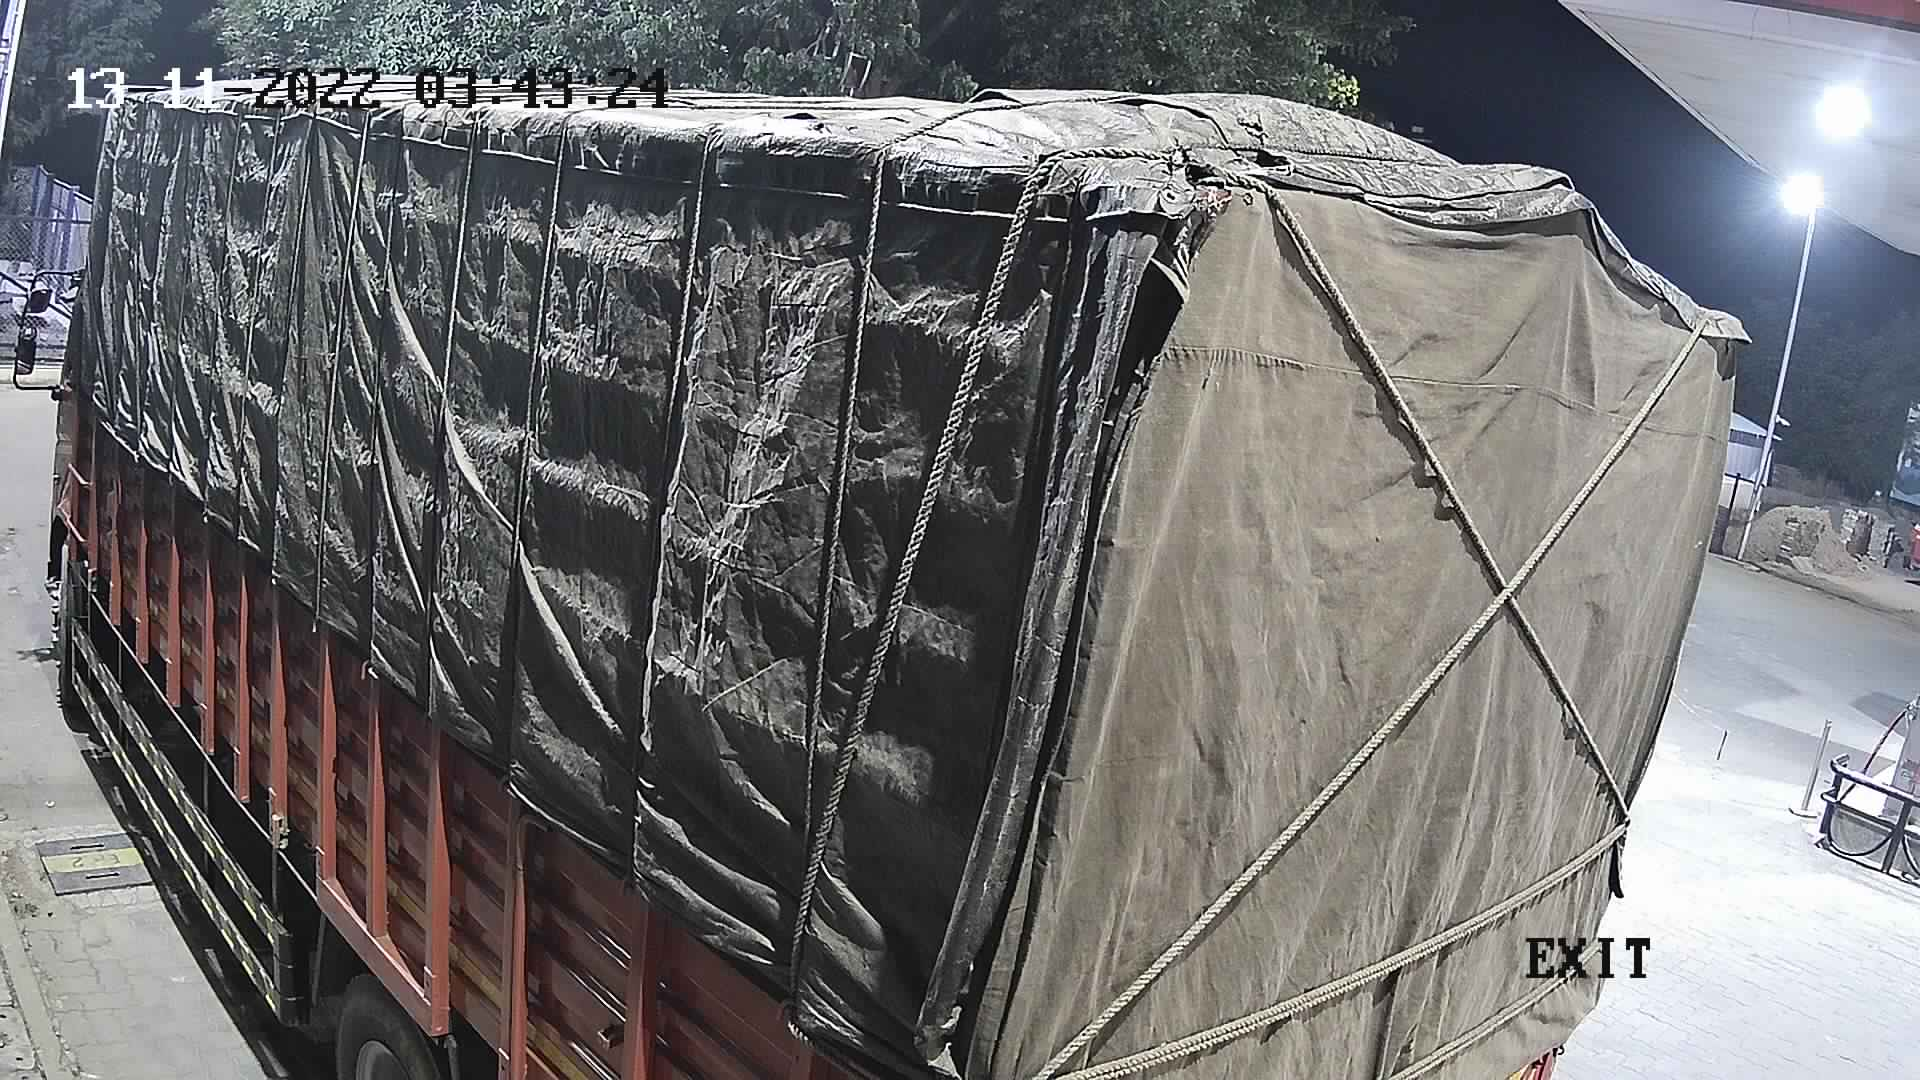HMV: (5, 50, 1768, 1073)
